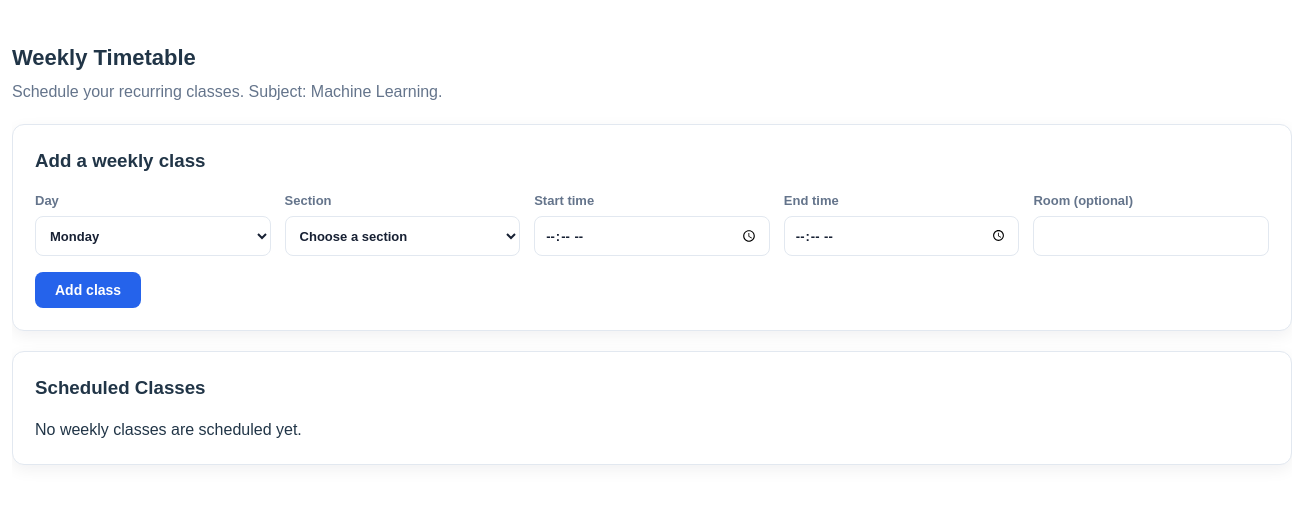
Test: Faculty weekly timetable management › reports overlap errors without pretending the class was saved
The width and height of the screenshot is (1292, 515).
Select "A" in the dropdown labelled "Section" at x=402, y=236, box [285,216,520,256]
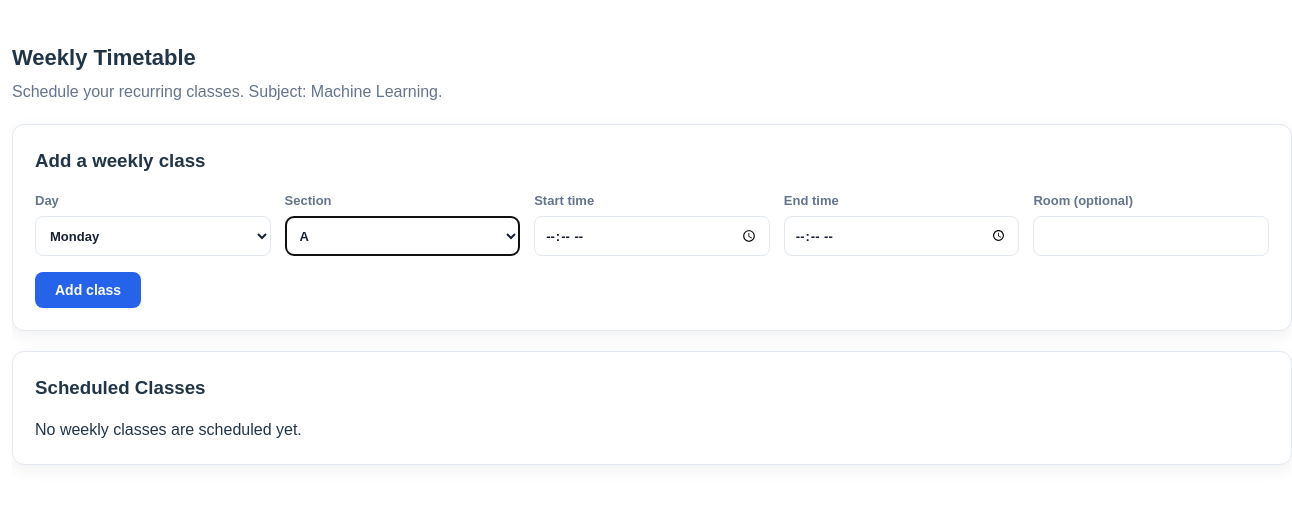
Type "09:00" into the time field labelled "Start time" at x=652, y=236, box [534,216,770,256]
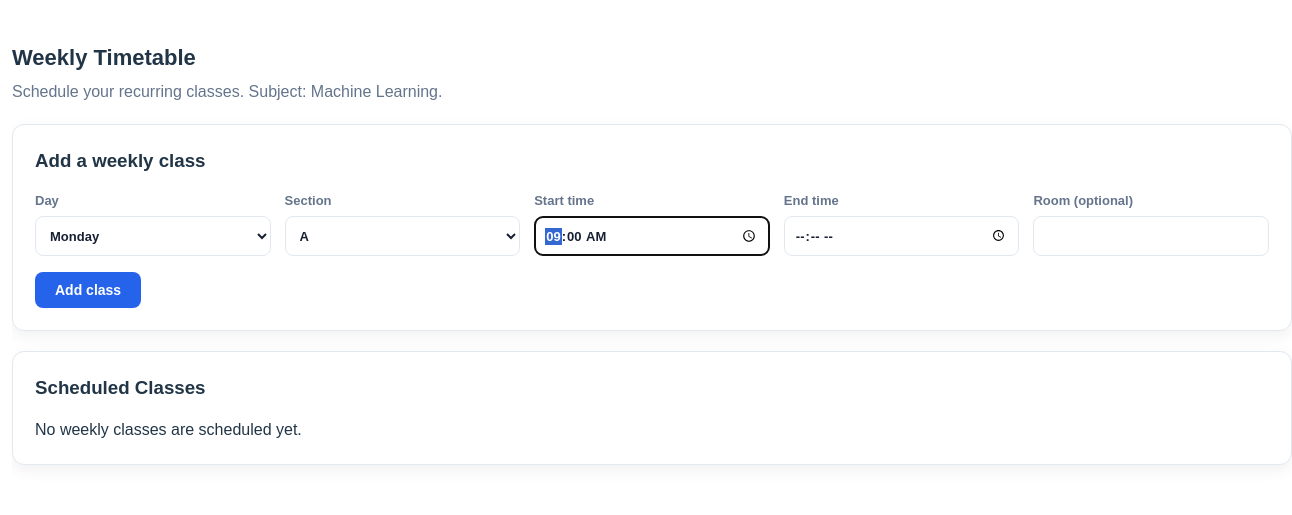
Type "10:00" into the time field labelled "End time" at x=902, y=236, box [784,216,1019,256]
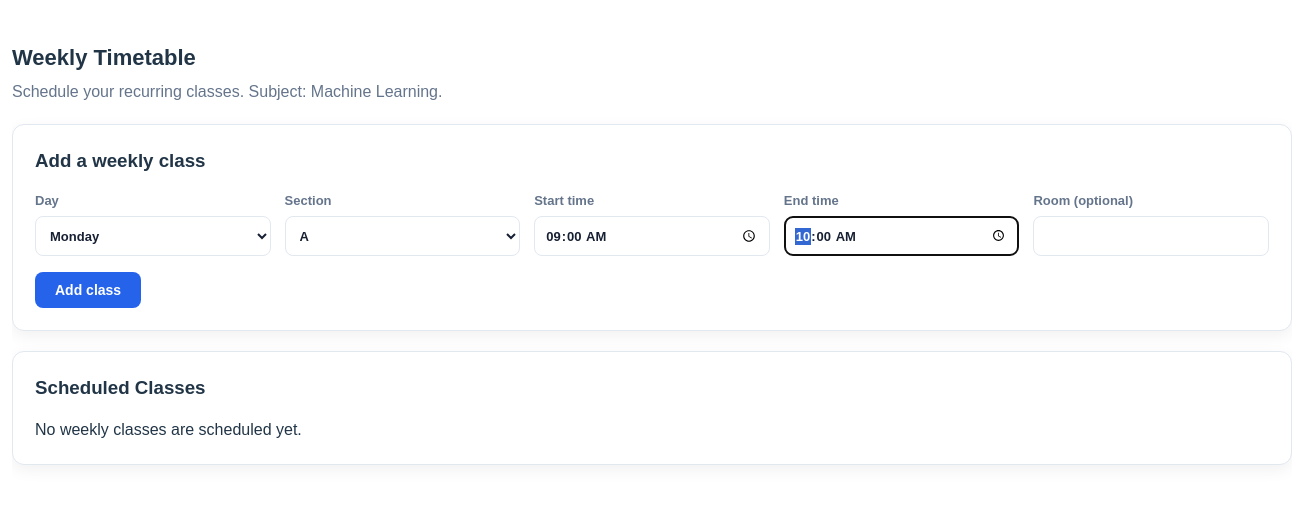
Click the button "Add class" at x=88, y=290, box [35,272,141,308]
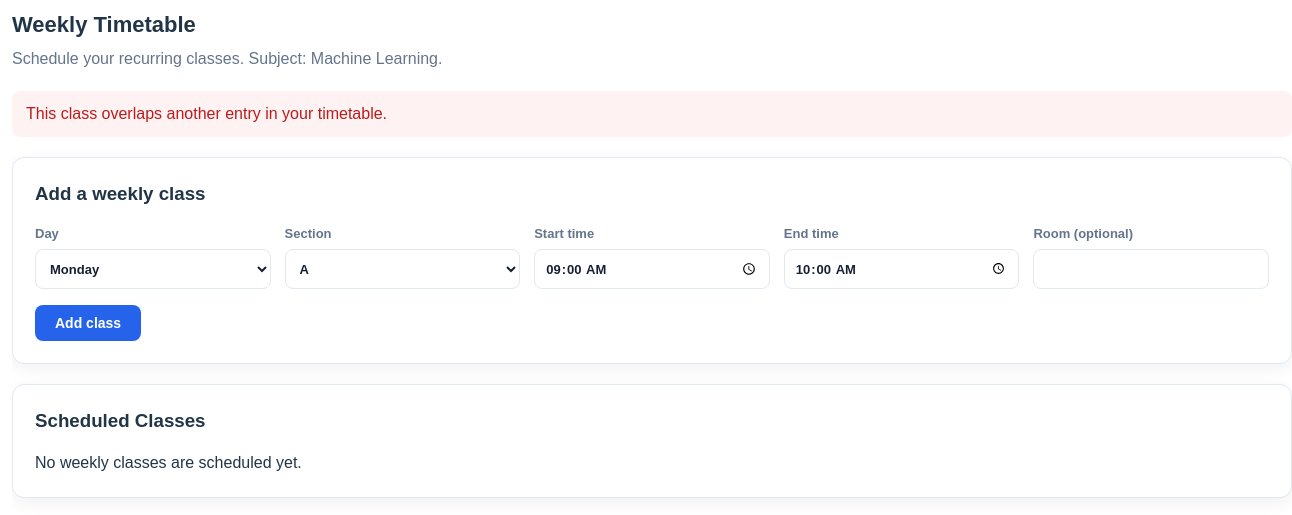
Expected: the text "No weekly classes are scheduled yet." is shown, [35,454,302,471]
Expected: the message "This class overlaps another entry in your timetable." is shown, [12,91,1291,137]
Expected: the message shows "overlaps another entry", [26,105,387,122]
